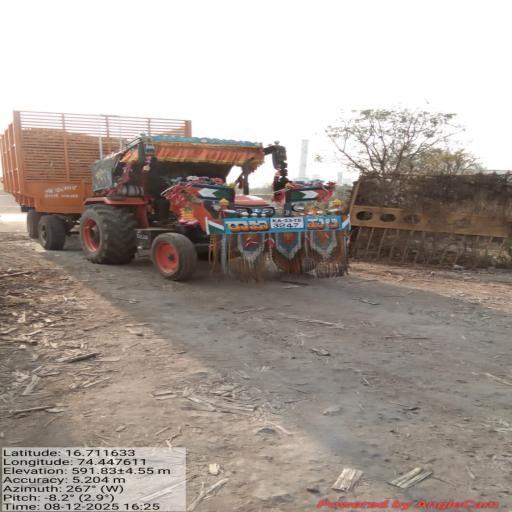number_plate: (270, 218, 304, 229)
